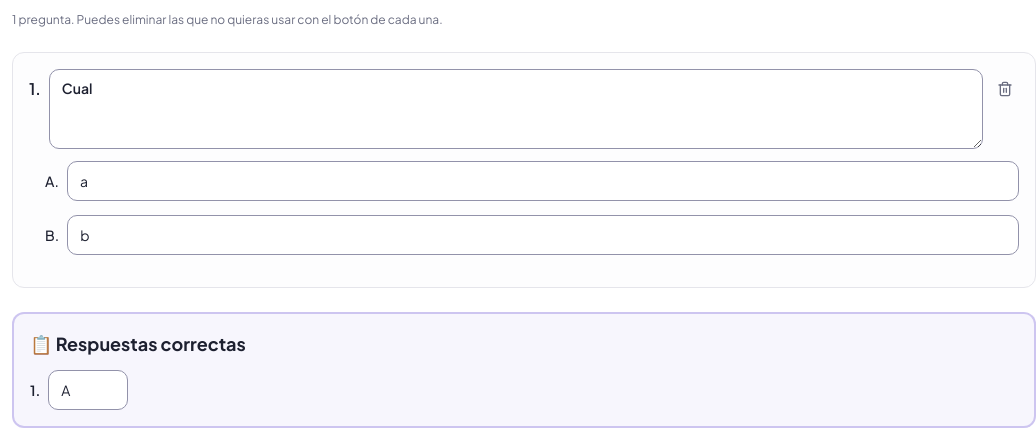
Test: escribir seguido sin perder el cursor › una pregunta del examen acepta una frase
The width and height of the screenshot is (1036, 445).
Step 1. Type " es la respuesta" into the text box → [516, 109], box x1=49 y1=69 x2=983 y2=149
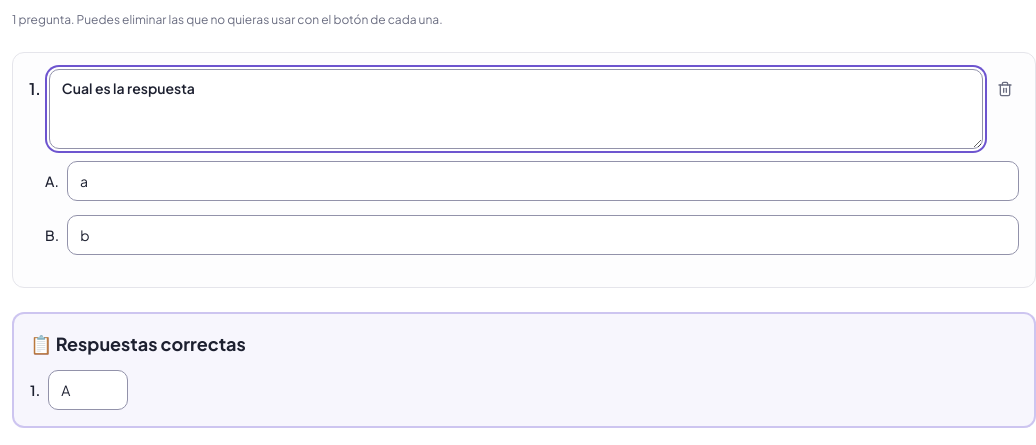
expect the text box holds "Cual es la respuesta": met, box x1=49 y1=69 x2=983 y2=149
